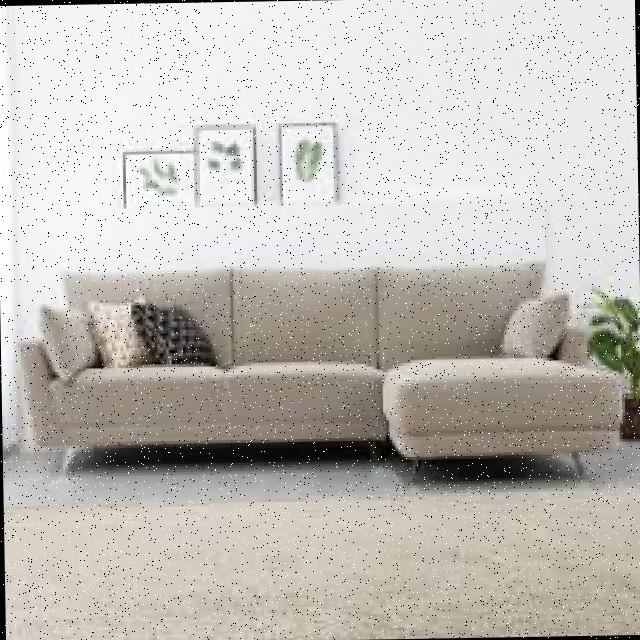Sofa: (6, 222, 636, 528)
